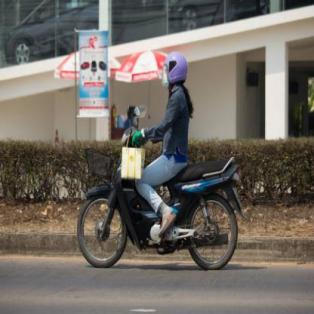Motocicleta: (75, 118, 245, 272)
